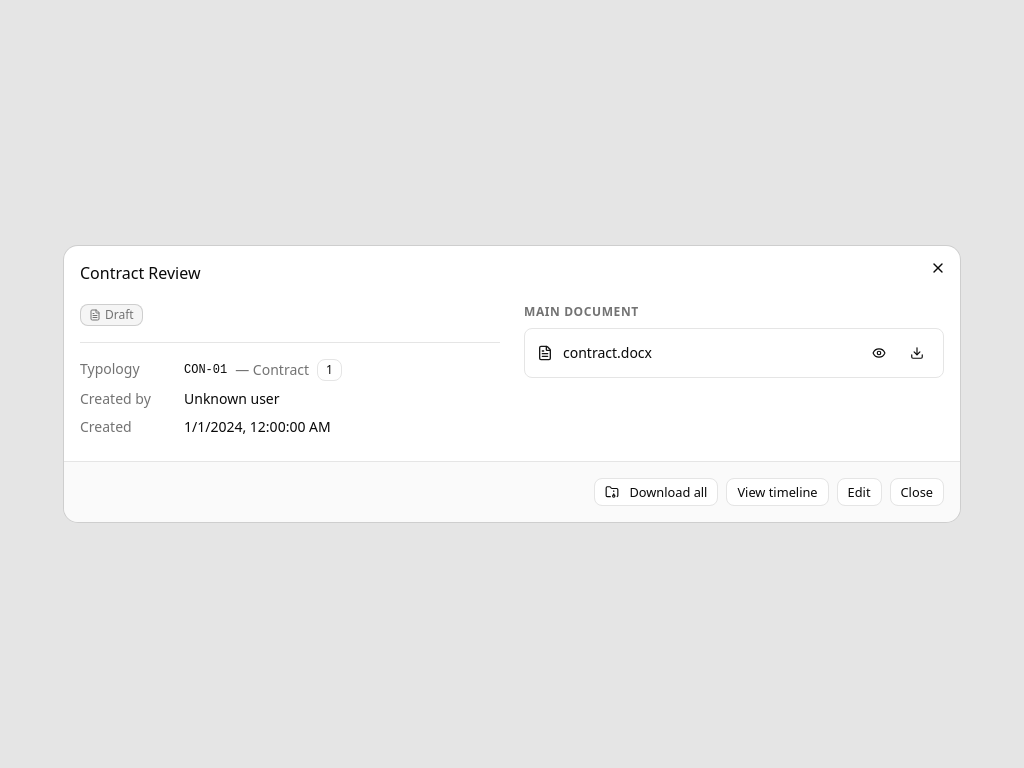
Test: DetailWorkflowDialog — main document preview › shows a fallback message if fetching the DOCX/XLSX content fails
Click the button named "Preview document": (879,353) [865,339,893,367]
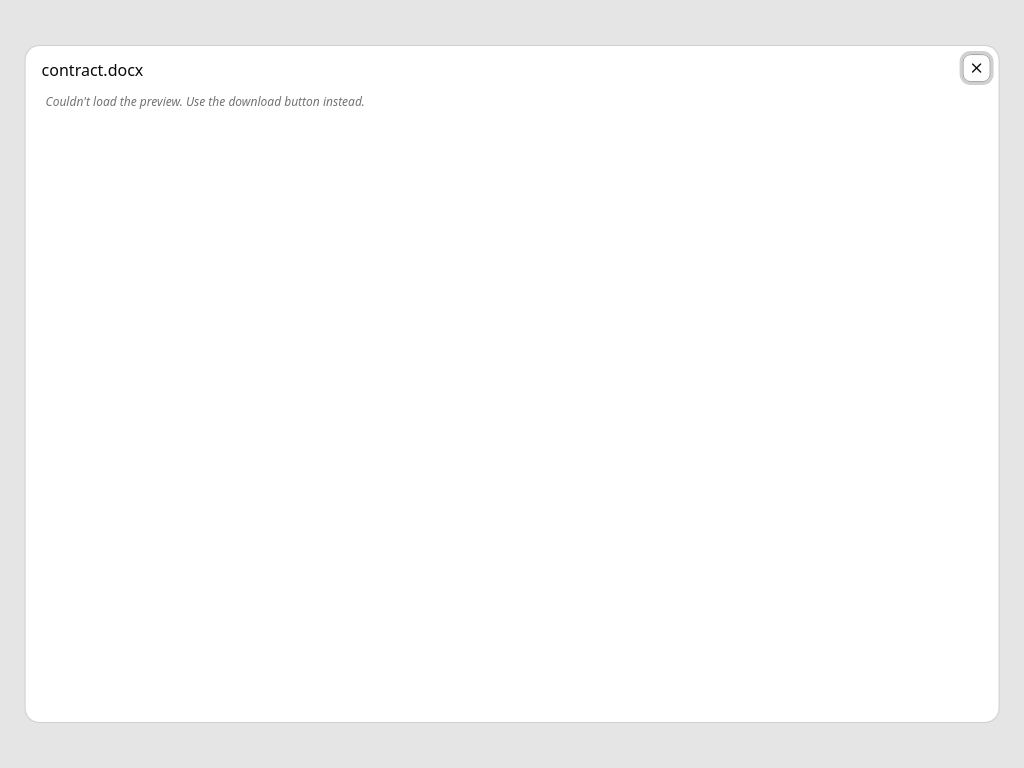
Check: the text "Couldn't load the preview. Use the download button instead." is shown, box [46,93,365,110]
